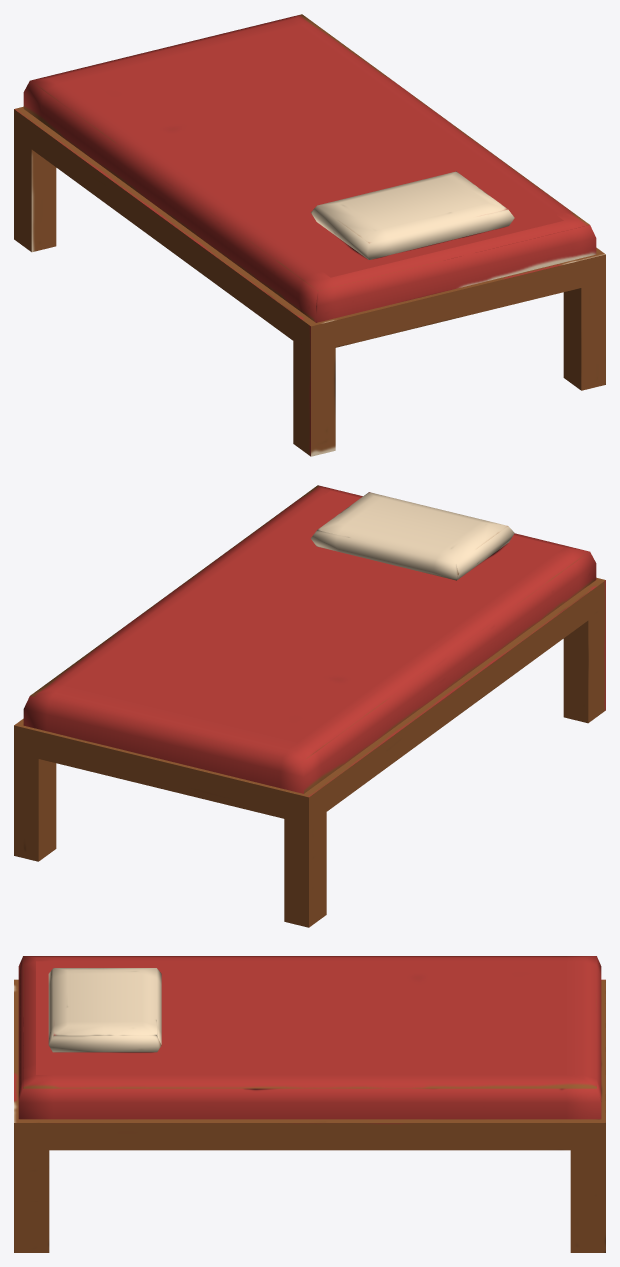
The model's file is CAMA.fbx.
3 renders of one model, top to bottom at view 1: azimuth 30°, elevation 25°; view 2: azimuth 150°, elevation 25°; view 3: azimuth 270°, elevation 25°, orthographic.
Parts seen in each view (by area): view 1: Cama; view 2: Cama; view 3: Cama.
Boxes of the visible parts, left/top/right/bottom form: Cama: left=14, top=14, right=605, bottom=456; Cama: left=14, top=485, right=605, bottom=927; Cama: left=14, top=956, right=605, bottom=1252.
Bounding box in the file's own units: 150 × 89.41 × 262.
Materials: 1 (1 with a texture image).
